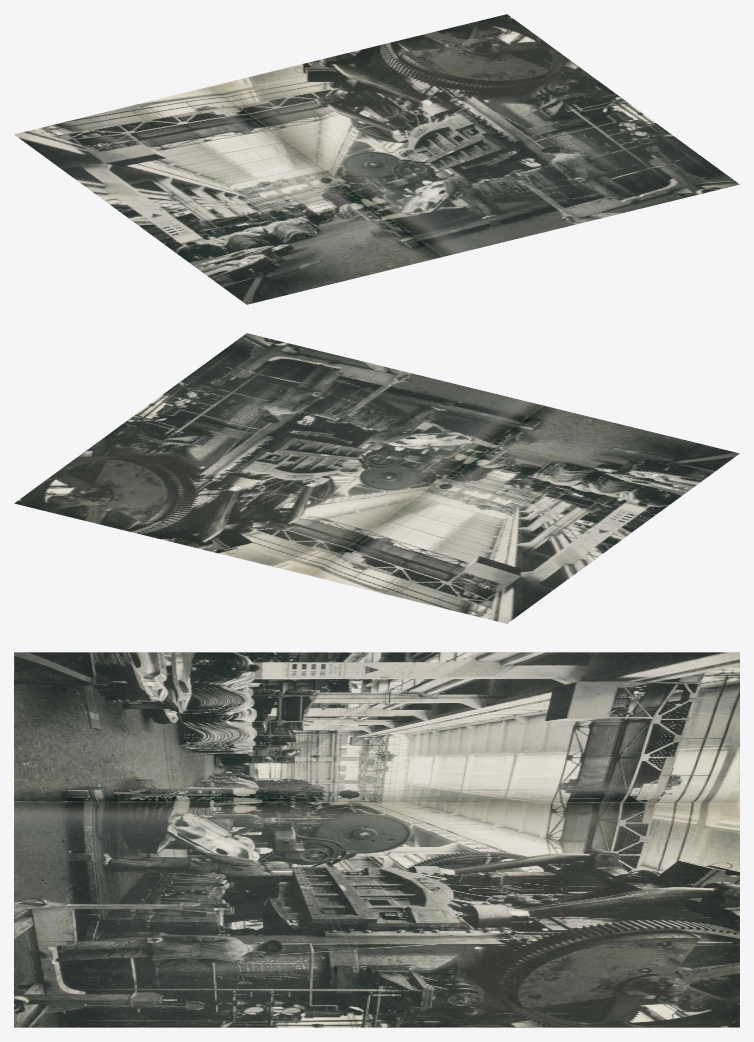
File: test_foto_pressatura.obj
3 views of the same model, one above another, from view 1: azimuth 30°, elevation 25°; view 2: azimuth 150°, elevation 25°; view 3: azimuth 270°, elevation 25° (orthographic). The views are drawn at different scales.
Parts seen in each view (by area): view 1: Plane001; view 2: Plane001; view 3: Plane001.
Part boxes in pixels (bbox=[...]): Plane001: bbox=[14, 14, 739, 304]; Plane001: bbox=[14, 333, 739, 623]; Plane001: bbox=[14, 652, 739, 1027].
Size of the model in its own units: 29.37 by 0 by 24.02.
